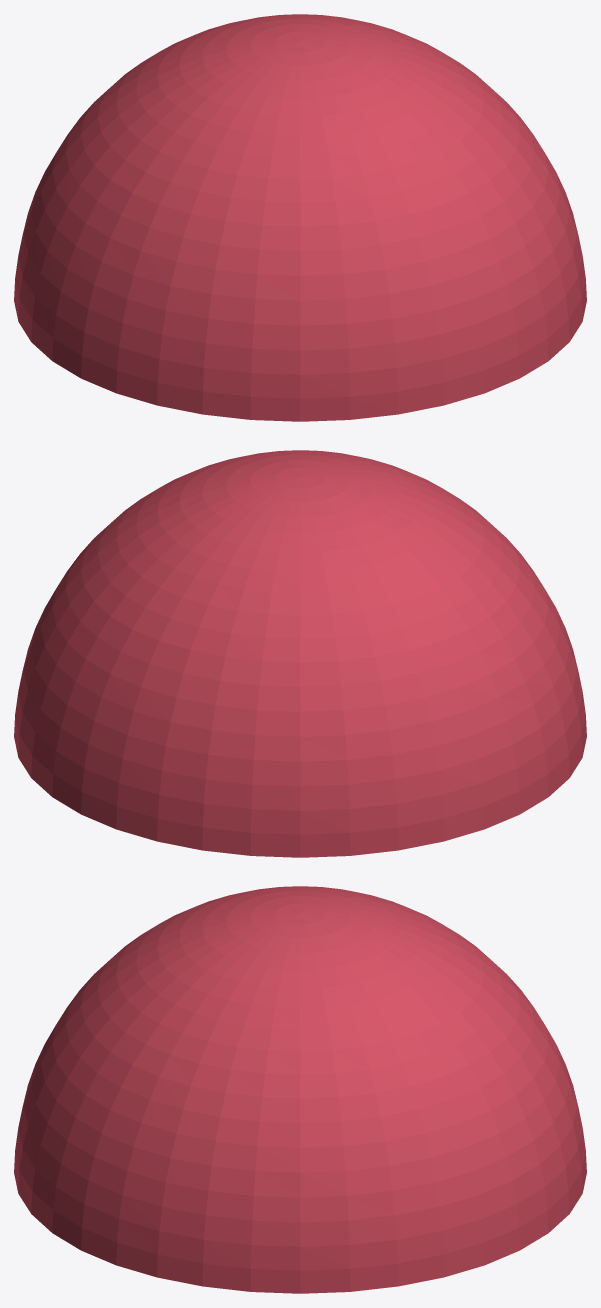
File: niejad.glb
3 views of the same model, one above another, from view 1: azimuth 30°, elevation 25°; view 2: azimuth 150°, elevation 25°; view 3: azimuth 270°, elevation 25° (orthographic).
Parts seen in each view (by area): view 1: Mesh_Mesh_head_geo.001_lambert2SG.001; view 2: Mesh_Mesh_head_geo.001_lambert2SG.001; view 3: Mesh_Mesh_head_geo.001_lambert2SG.001.
Boxes of the visible parts, x1,y1,x2,y2 form: Mesh_Mesh_head_geo.001_lambert2SG.001: [14, 14, 586, 421]; Mesh_Mesh_head_geo.001_lambert2SG.001: [14, 450, 586, 857]; Mesh_Mesh_head_geo.001_lambert2SG.001: [14, 886, 586, 1293].
Size of the model in its own units: 4 by 2 by 4.
